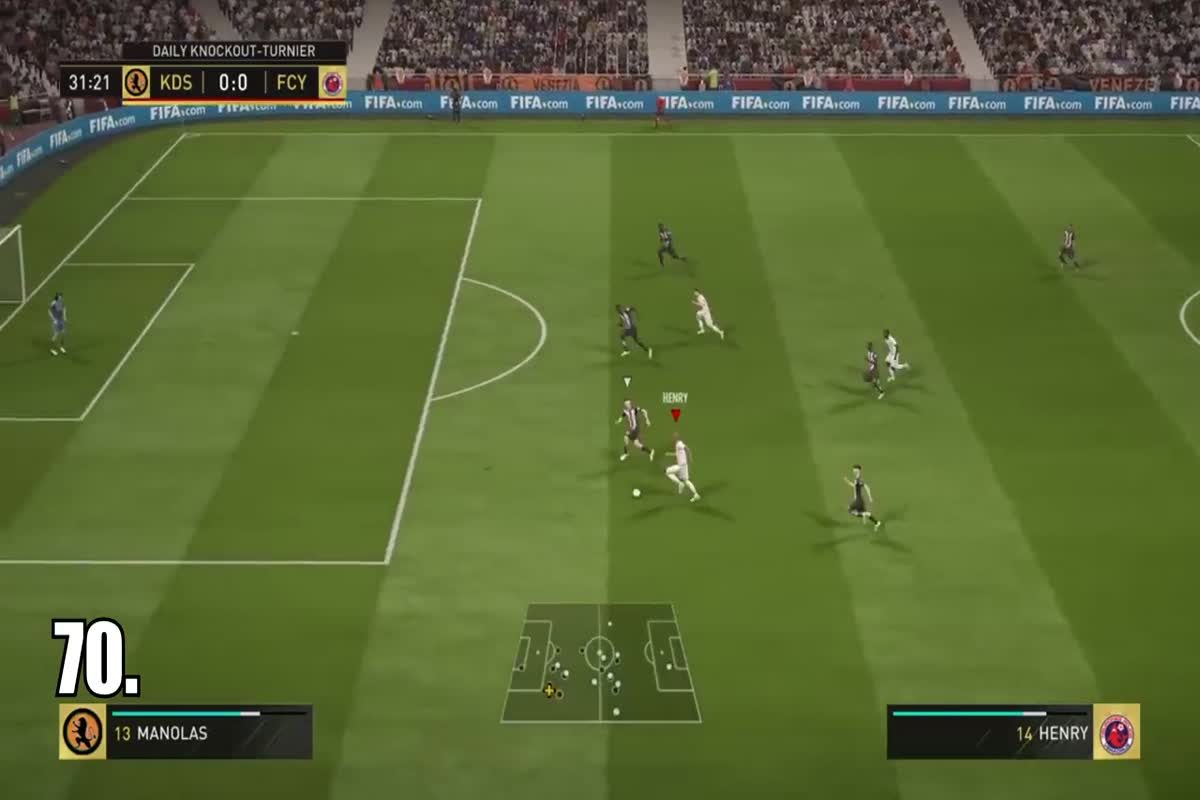ball: (622, 477, 649, 506)
